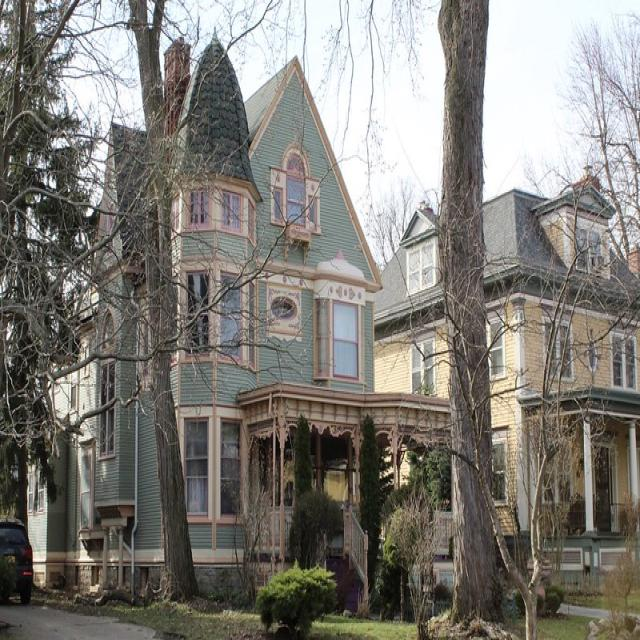building: (18, 35, 380, 594), (370, 150, 640, 622)
